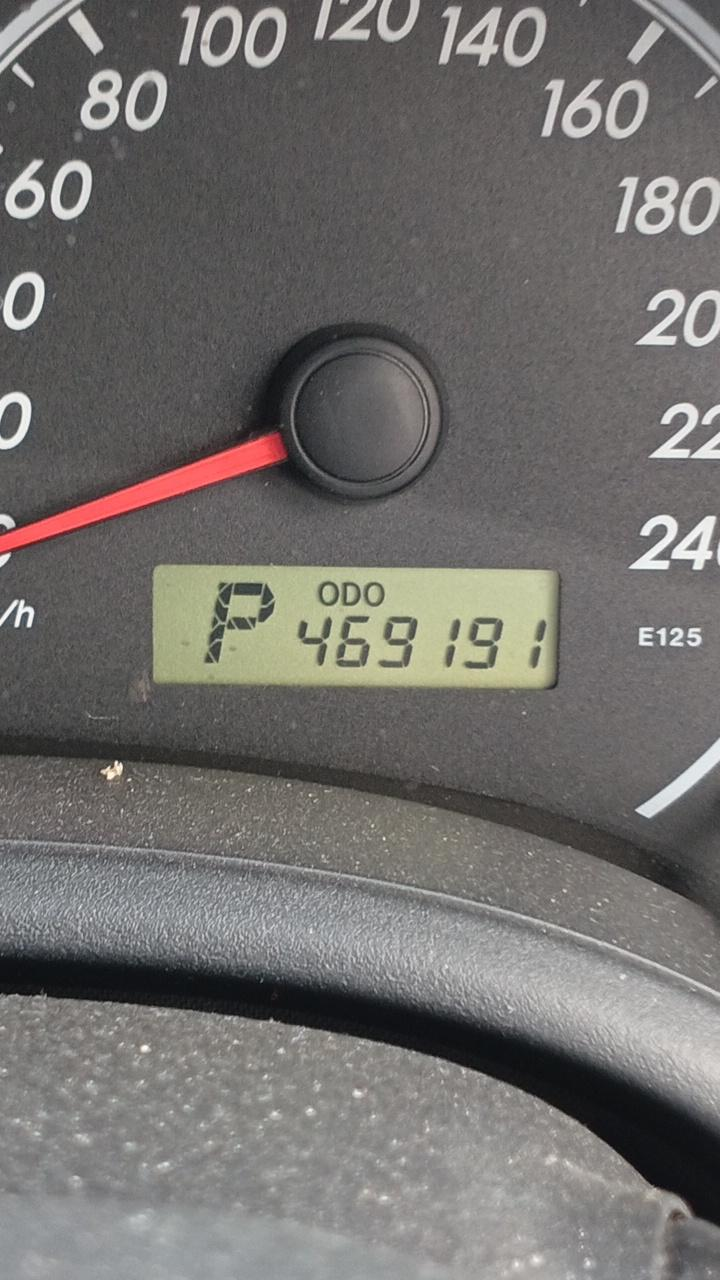1: (527, 618, 547, 671), (442, 617, 461, 669)
4: (296, 616, 333, 668)
6: (335, 615, 372, 668)
9: (462, 617, 505, 670), (378, 616, 419, 669)
X: (201, 581, 277, 665), (364, 581, 385, 608), (318, 581, 339, 607), (341, 582, 361, 607)
odometer: (151, 563, 561, 694)
